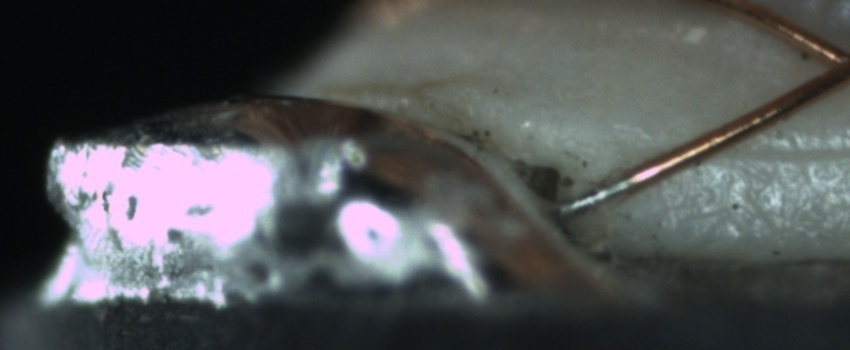CL: (801, 25, 850, 98)
DL: (696, 122, 849, 185)
TS: (556, 173, 636, 216)
TTCW: (551, 170, 643, 216)
